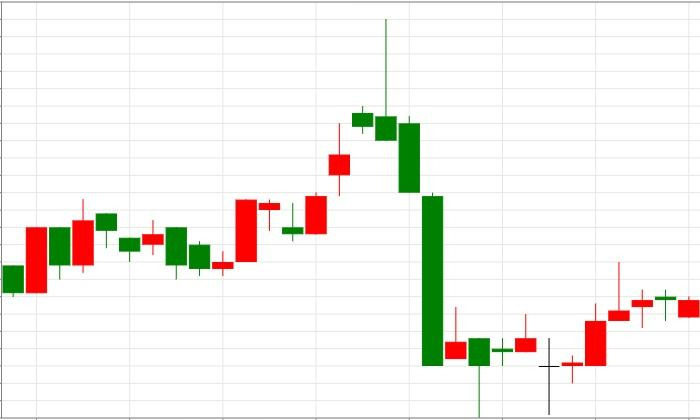hammer_rise: (352, 18, 489, 417)
shooting_star_fall: (282, 18, 396, 242)
